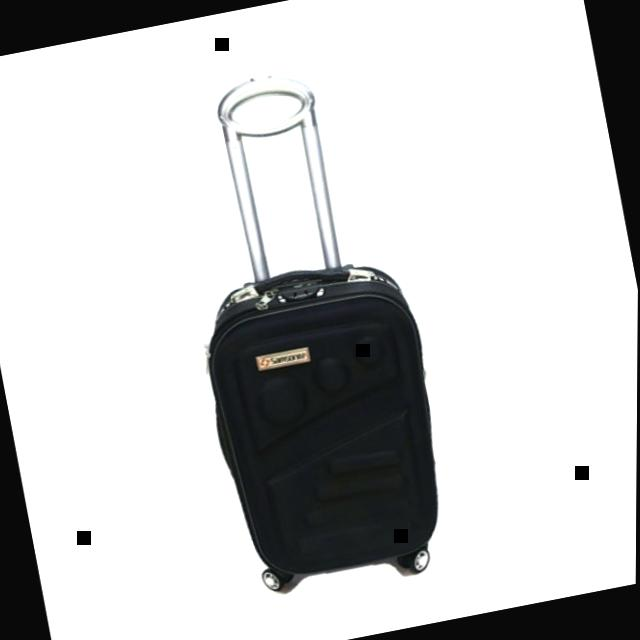luggage: (181, 240, 467, 590)
